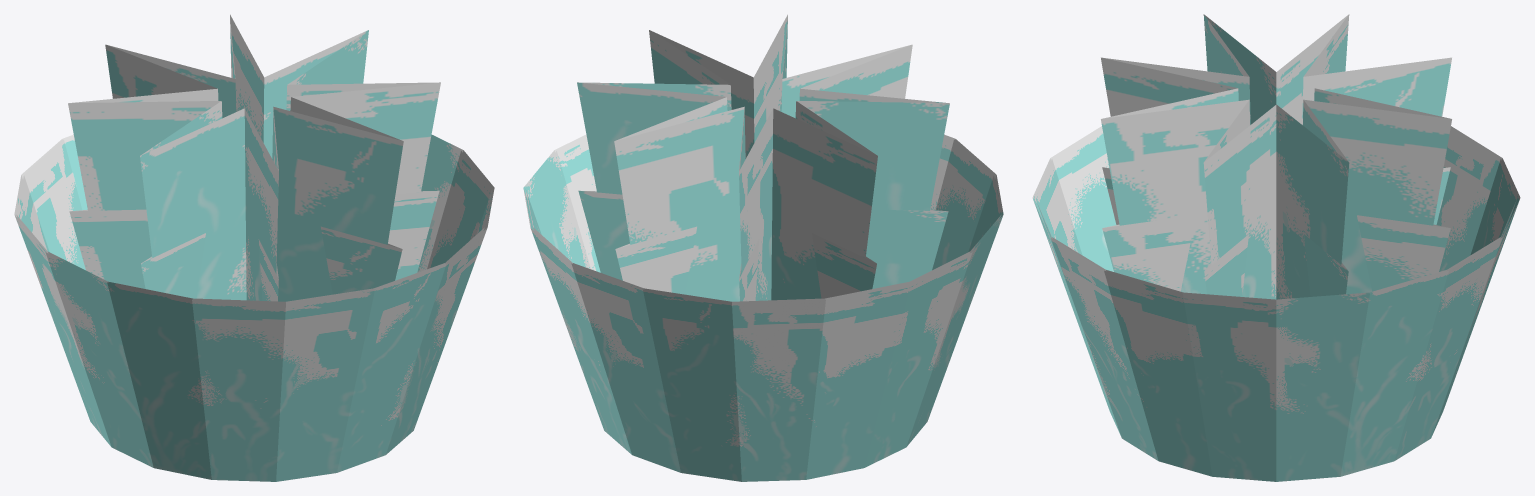
Rendered from SOS_props_LightningSparks_A_03.fbx.
The picture shows the model from 3 angles, left to right: view 1: azimuth 30°, elevation 25°; view 2: azimuth 150°, elevation 25°; view 3: azimuth 270°, elevation 25°; orthographic projection.
Parts seen in each view (by area): view 1: Lightning Sparks A; view 2: Lightning Sparks A; view 3: Lightning Sparks A.
Part boxes in pixels (box(x1,y1,x2,y2)): Lightning Sparks A: box(14, 14, 494, 481); Lightning Sparks A: box(523, 14, 1003, 481); Lightning Sparks A: box(1032, 14, 1520, 481).
Size of the model in its own units: 414 by 302 by 414.
